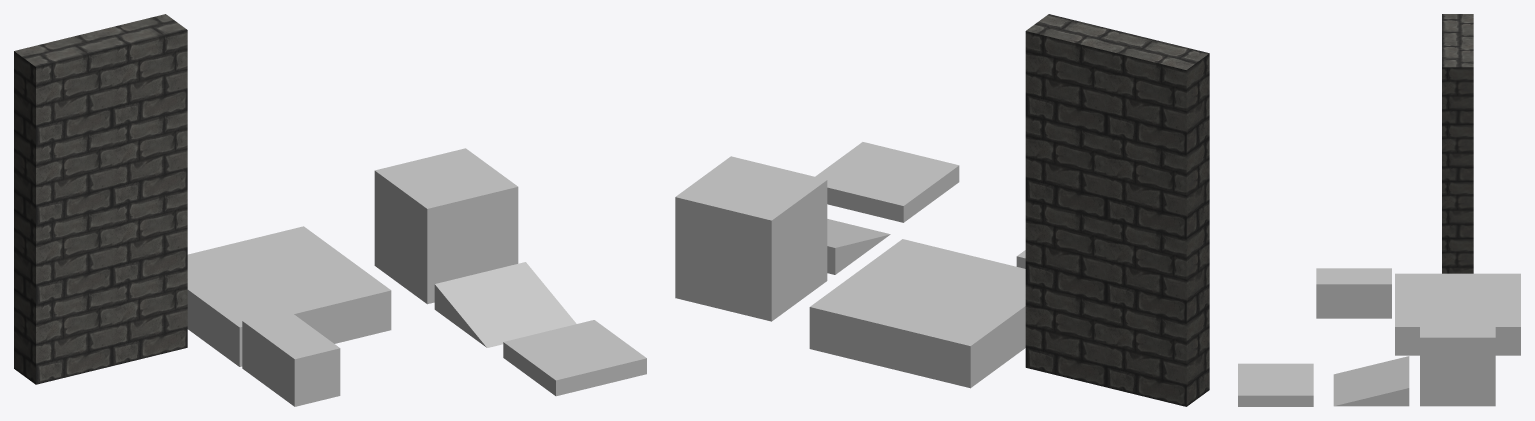
The model's file is wall.FBX.
3 renders of one model, left to right at view 1: azimuth 30°, elevation 25°; view 2: azimuth 150°, elevation 25°; view 3: azimuth 270°, elevation 25°, orthographic. The views are drawn at different scales.
Visible parts, largest first — view 1: wall, fioor_10_10_25, fioor_6_6_6, fioor_6_6_15, fioor_3_6_3, fioor_6_6_1; view 2: wall, fioor_10_10_25, fioor_6_6_6, fioor_6_6_1, fioor_6_6_15; view 3: wall, fioor_6_6_6, fioor_10_10_25, fioor_3_6_3, fioor_6_6_1, fioor_6_6_15.
Part boxes in pixels (x1,y1,x2,y2): wall: (14, 14, 187, 384); fioor_10_10_25: (187, 226, 391, 366); fioor_6_6_6: (374, 148, 518, 304); fioor_6_6_15: (434, 262, 576, 347); fioor_3_6_3: (242, 309, 340, 406); fioor_6_6_1: (503, 320, 646, 396); wall: (1025, 14, 1209, 406); fioor_10_10_25: (809, 239, 1025, 388); fioor_6_6_6: (675, 156, 827, 321); fioor_6_6_1: (815, 142, 959, 222); fioor_6_6_15: (827, 219, 890, 274); wall: (1442, 14, 1473, 273); fioor_6_6_6: (1420, 305, 1495, 406); fioor_10_10_25: (1395, 273, 1520, 355); fioor_3_6_3: (1316, 268, 1391, 318); fioor_6_6_1: (1238, 363, 1313, 406); fioor_6_6_15: (1333, 356, 1409, 406).
Size of the model in its own units: 3091 by 2000 by 2244.
